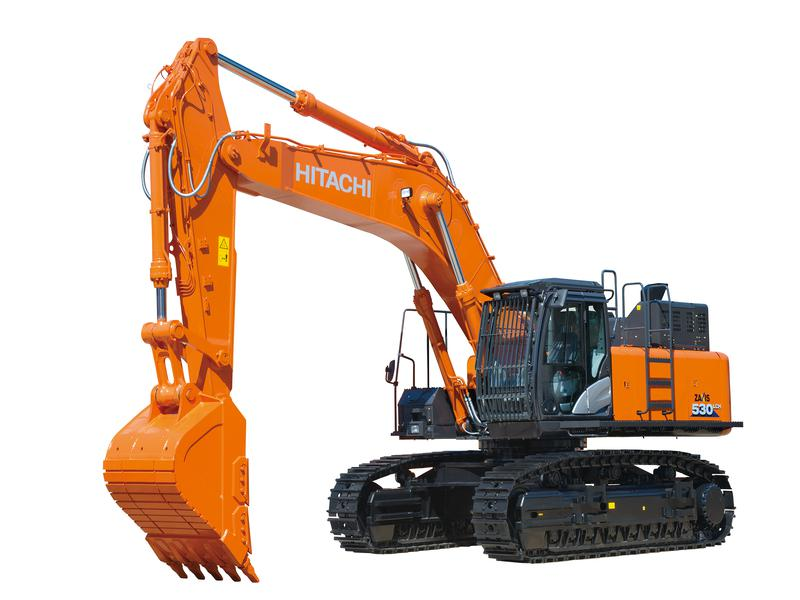shovel: (100, 35, 747, 592)
